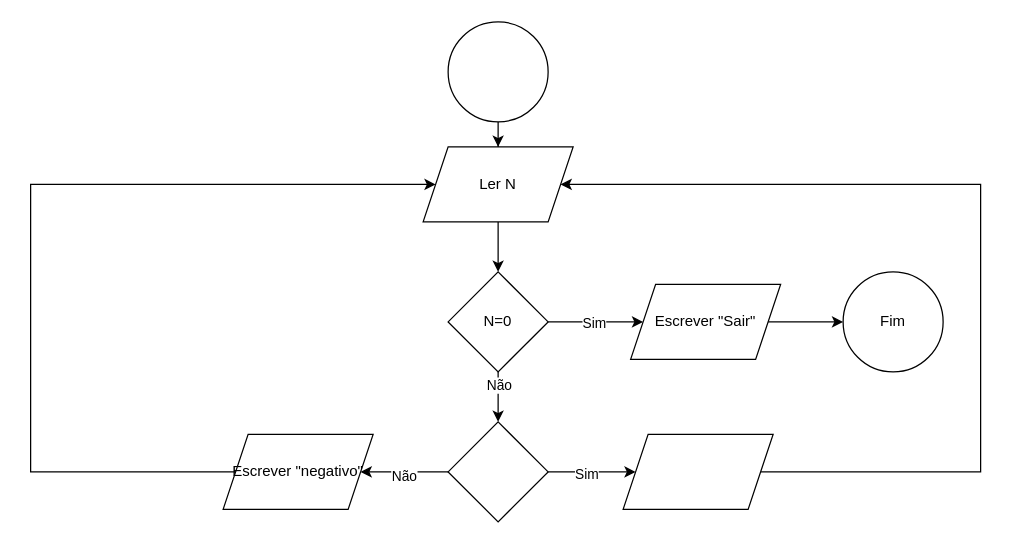
This 1013x544 diagram has some shape labels left out. Here are the shapes that lost their labels. From the top down, the centre of each, then its label:
(497,71): Inicio
(497,471): N>0
(697,471): Escrever "Positivo"
